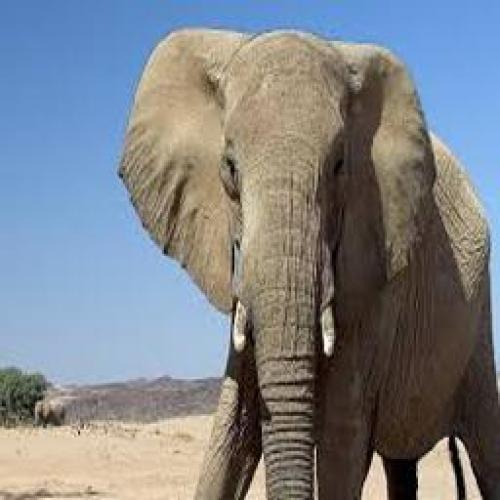african_elephant-endangered: (123, 21, 498, 500)
